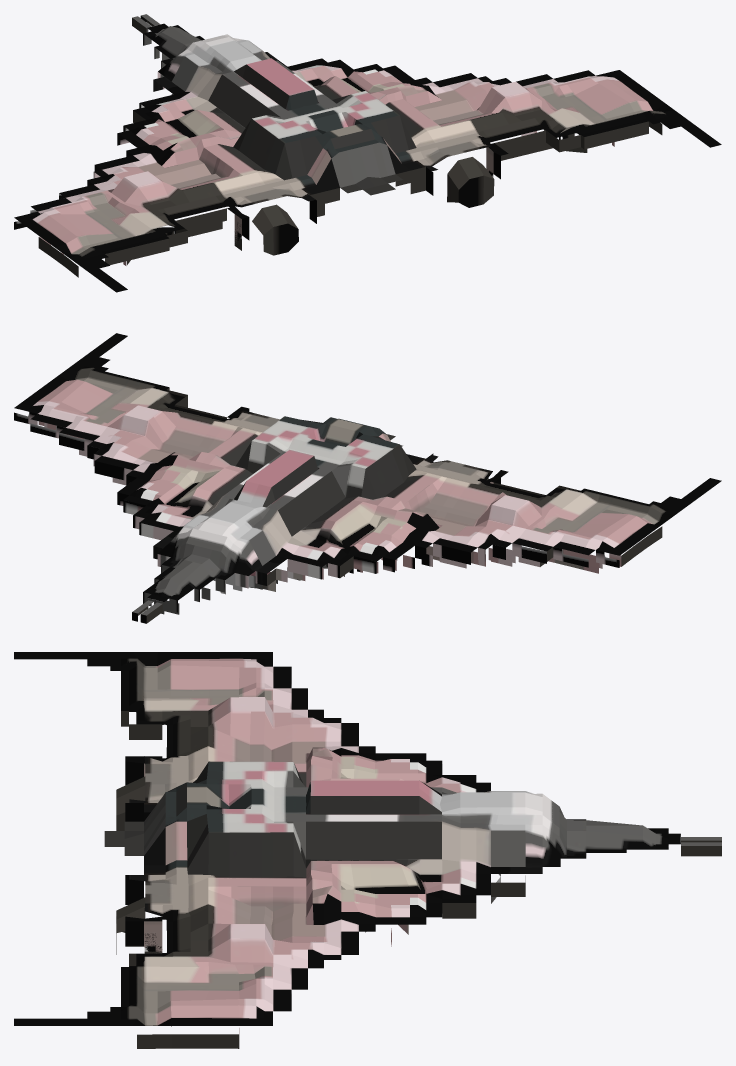
File: ship1.fbx
3 views of the same model, one above another, from view 1: azimuth 30°, elevation 25°; view 2: azimuth 150°, elevation 25°; view 3: azimuth 270°, elevation 25° (orthographic). The views are drawn at different scales.
Visible parts, largest first — view 1: Plane.002; view 2: Plane.002; view 3: Plane.002.
Boxes of the visible parts, x1=… form: Plane.002: x1=14, y1=14, x2=721, y2=292; Plane.002: x1=14, y1=333, x2=721, y2=623; Plane.002: x1=14, y1=652, x2=721, y2=1048.
Bounding box in the file's own units: 252 × 35.58 × 201.
